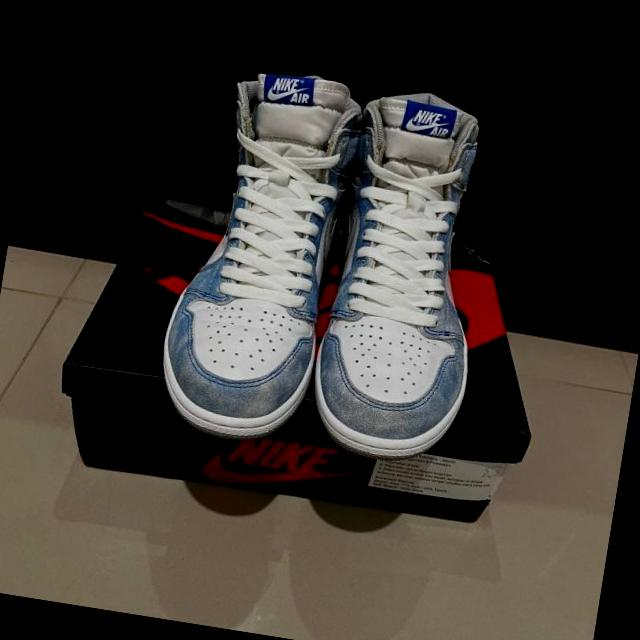nike_original_jordan: (148, 56, 372, 456), (301, 81, 514, 472)
